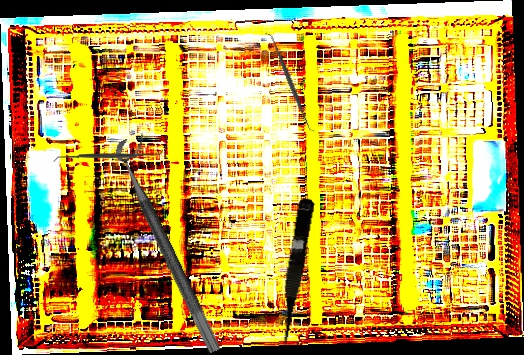Fixation Ring: (110, 131, 240, 355)
Micro Scissor: (271, 195, 316, 353)
Spatula Surgical: (263, 28, 317, 136), (52, 149, 164, 163)
